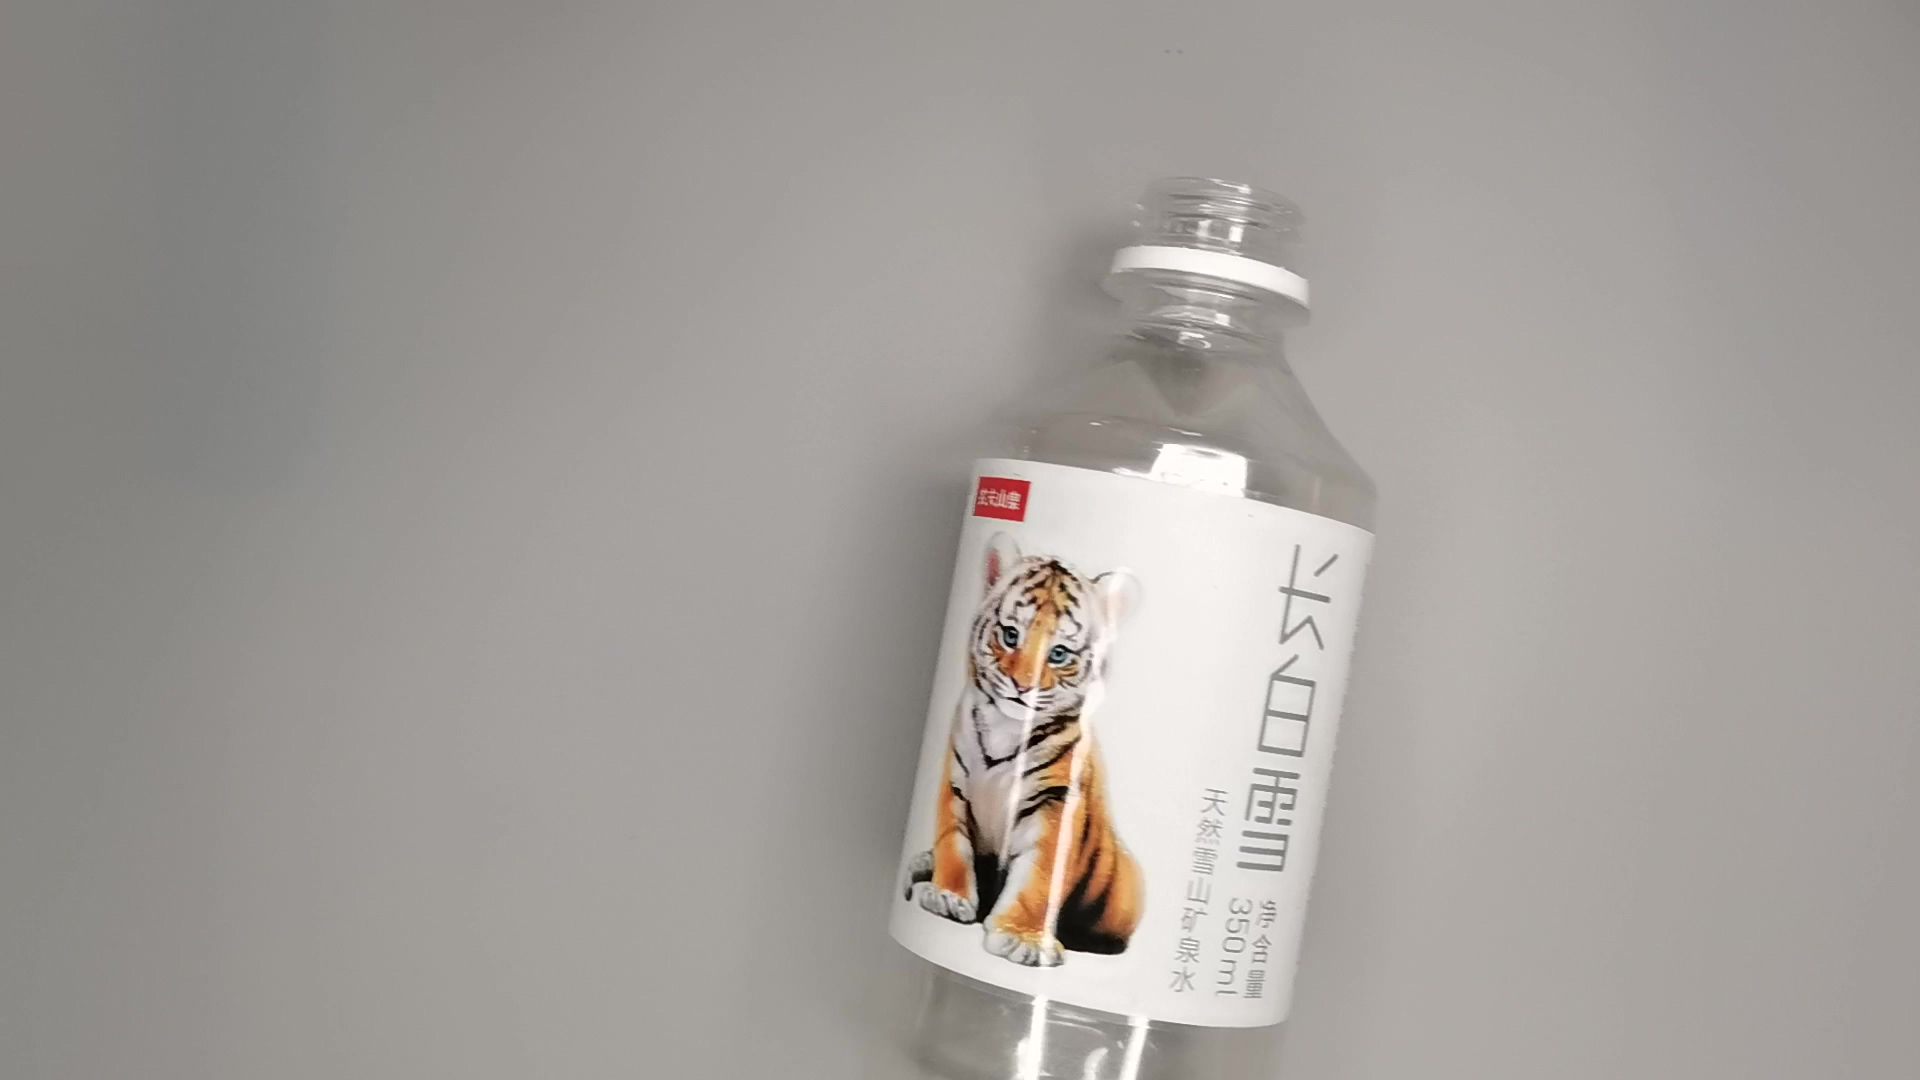bottle: (860, 171, 1389, 1080)
